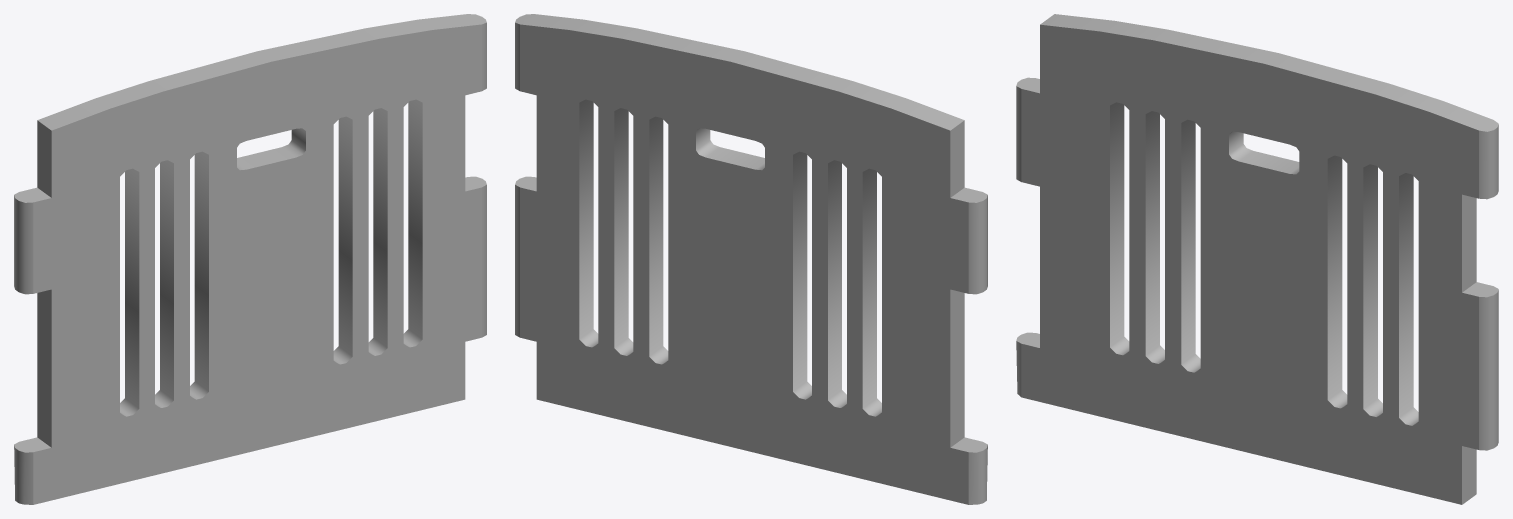
Rendered from PlayingPenFence_01_02.fbx.
3 views of the same model, side by side, from view 1: azimuth 30°, elevation 25°; view 2: azimuth 150°, elevation 25°; view 3: azimuth 330°, elevation 25° (orthographic). The views are drawn at different scales.
Parts seen in each view (by area): view 1: PlayingPenFence_02; view 2: PlayingPenFence_02; view 3: PlayingPenFence_02.
Boxes of the visible parts, box(x1,y1,x2,y2) form: PlayingPenFence_02: box(14, 14, 486, 504); PlayingPenFence_02: box(515, 14, 987, 504); PlayingPenFence_02: box(1016, 14, 1498, 504).
Size of the model in its own units: 0.7714 by 0.6078 by 0.0409.
